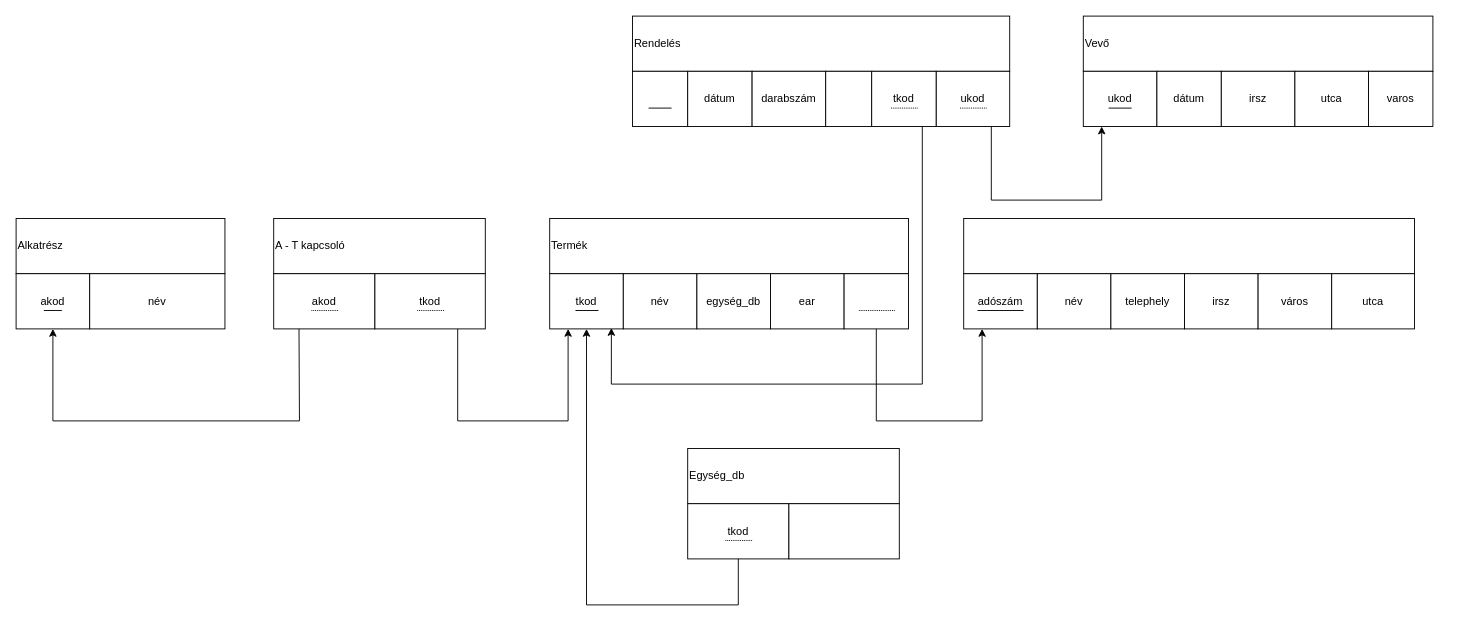
The diagram is 1467 pixels wide and 628 high, and some of its shapes have lost their labels. Each missing label, with the box of its shape:
egyseg_db: (788, 503, 899, 559)
gykod: (843, 273, 908, 329)
Gyártó: (963, 218, 1414, 274)
rkod: (632, 70, 688, 126)
ár: (825, 70, 872, 126)
